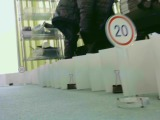speed_20: (104, 15, 138, 47)
